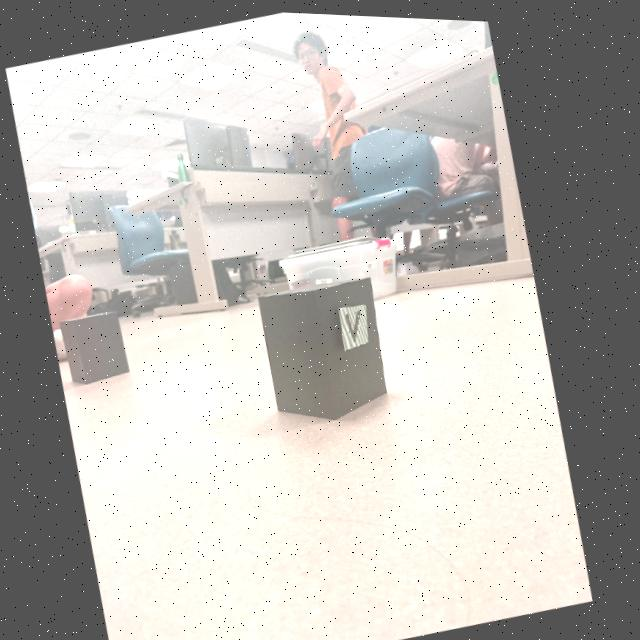V: (350, 307, 365, 337)
